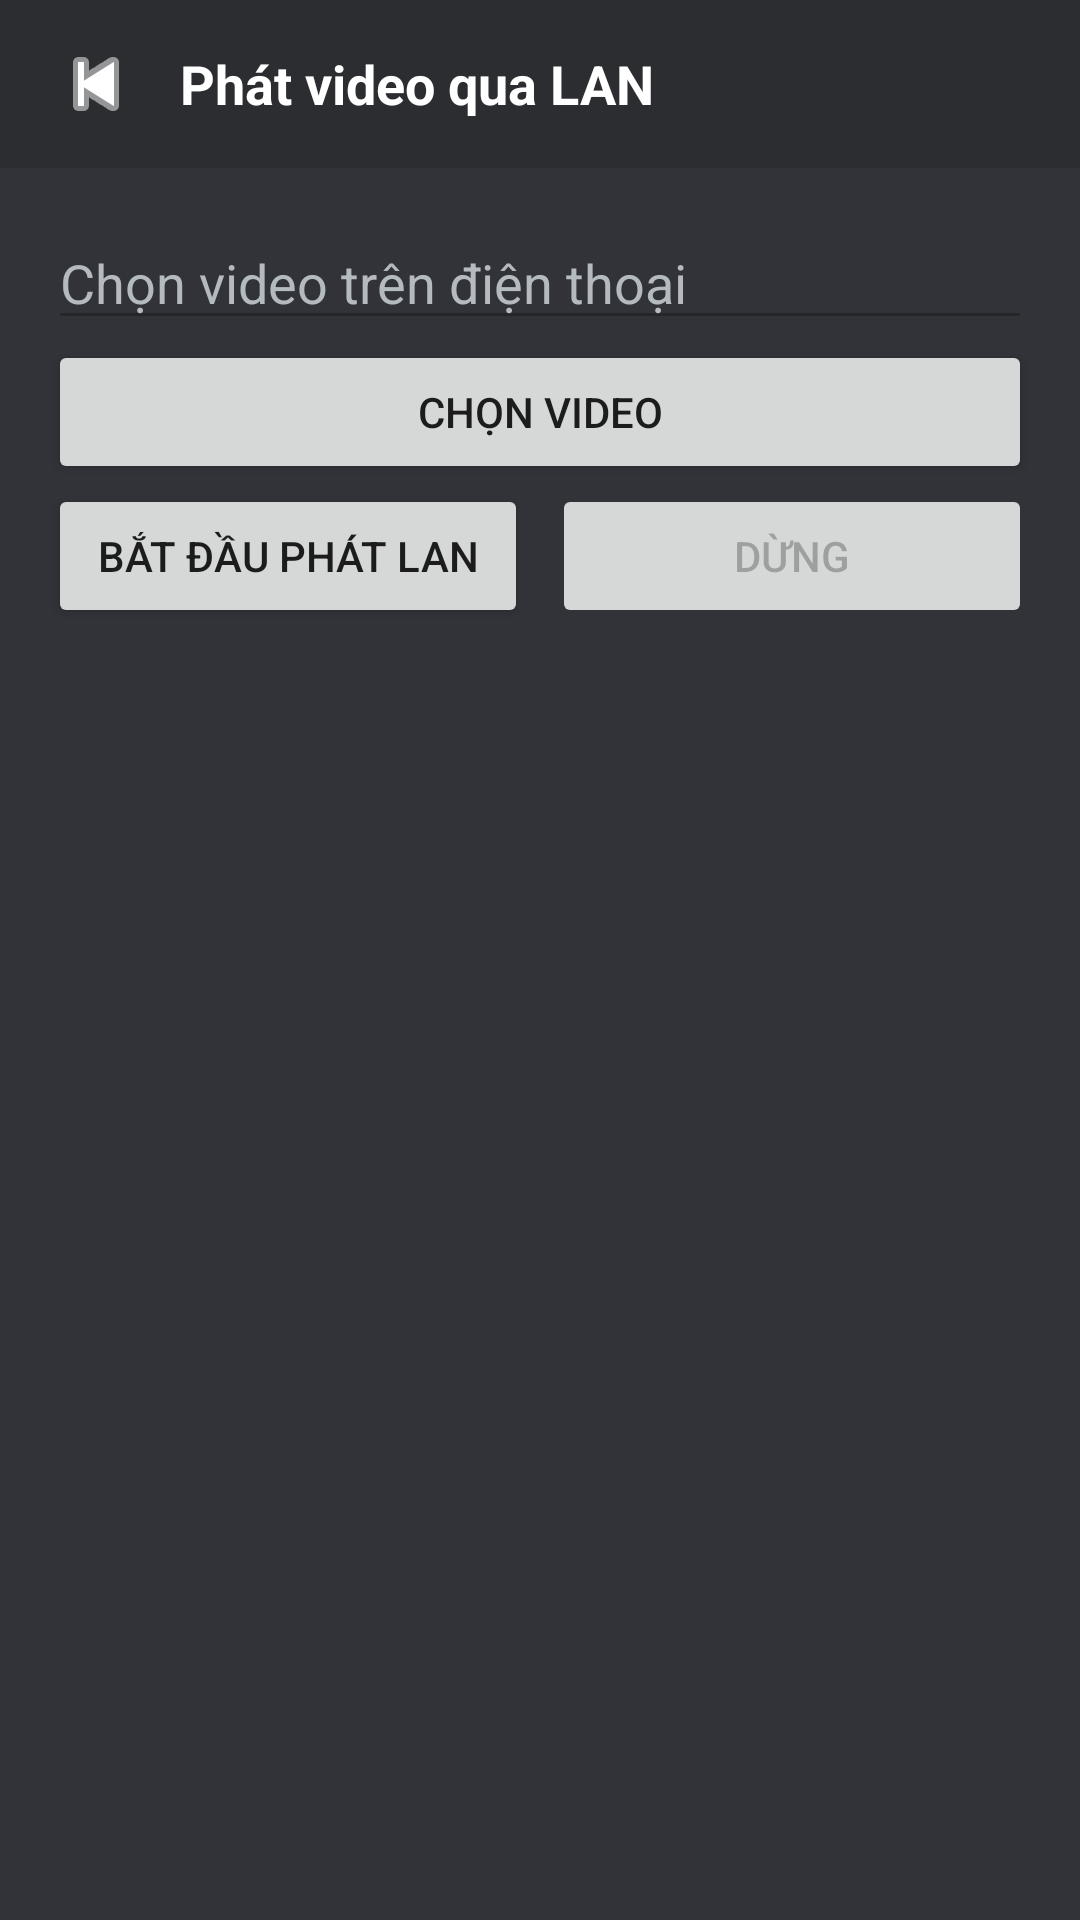

Where to tap for icons on this 1080 x 1920 app screen, as (x=x, y=y):
previous: (x=96, y=84)
